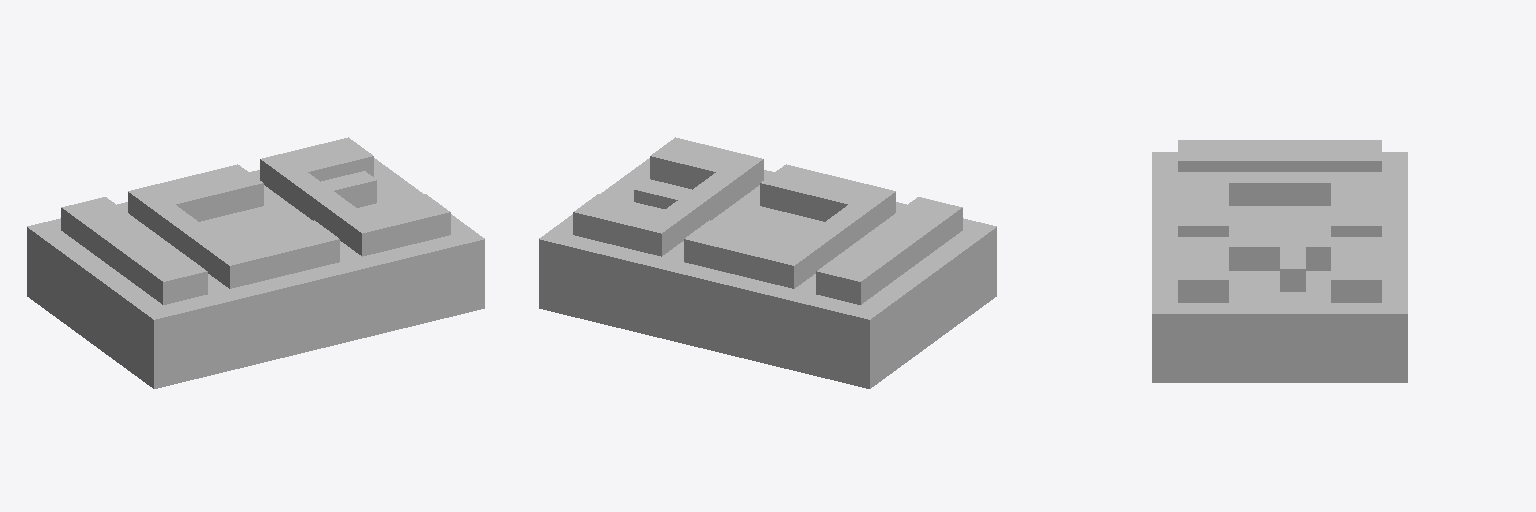
File: ice 1.obj
3 renders of one model, left to right at view 1: azimuth 30°, elevation 25°; view 2: azimuth 150°, elevation 25°; view 3: azimuth 270°, elevation 25°, orthographic.
Parts seen in each view (by area): view 1: object 1; view 2: object 1; view 3: object 1.
Part boxes in pixels (x1,y1,x2,y2): object 1: (27,137,484,388); object 1: (539,137,996,388); object 1: (1152,140,1407,382).
Size of the model in its own units: 1.5 by 0.4 by 1.